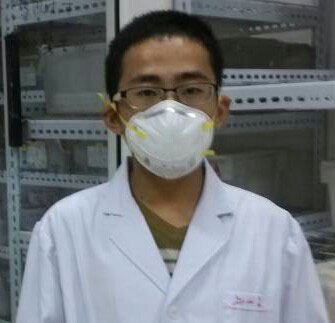face_mask: (118, 40, 214, 179)
